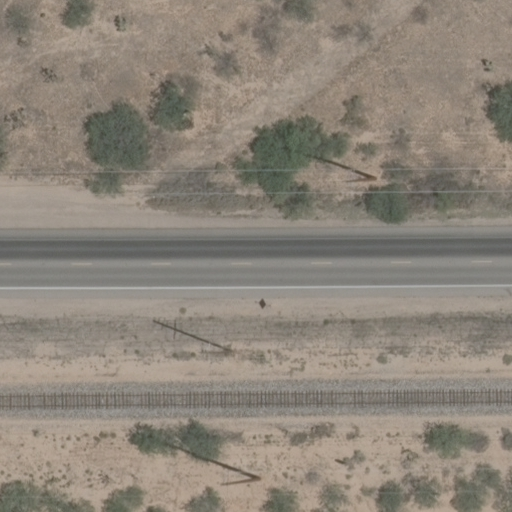DT: (162, 443, 261, 480), (151, 315, 235, 355), (291, 152, 375, 179)
